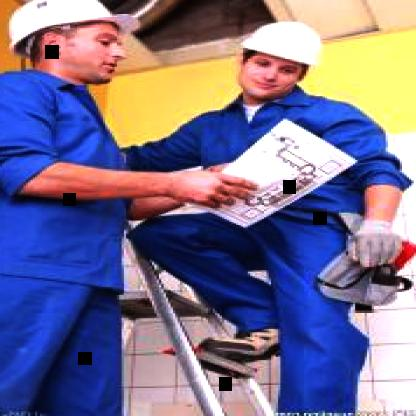helmet: (0, 0, 145, 88), (232, 19, 335, 101)
